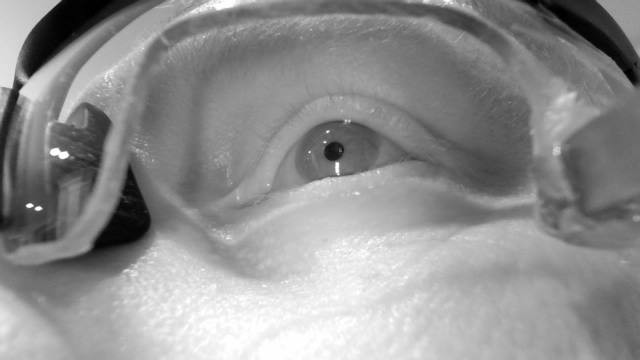pupil: (323, 141, 345, 162)
